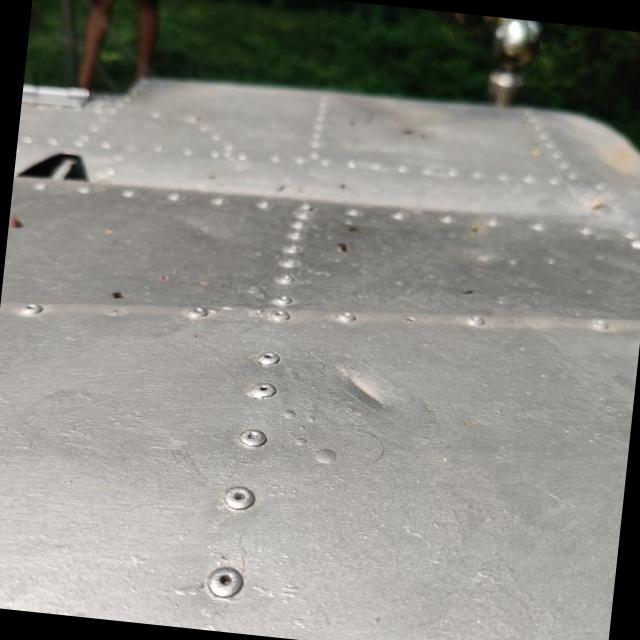Dent: (305, 336, 423, 442)
